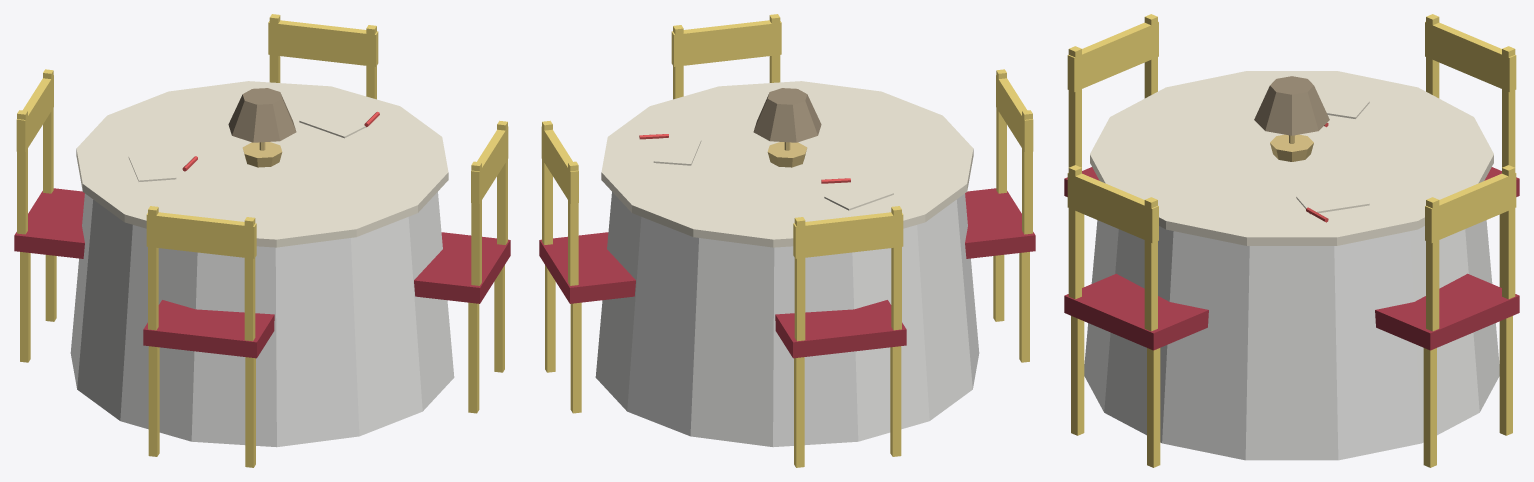
The model's file is HJ_MesaRedonda.fbx.
The picture shows the model from 3 angles, left to right: view 1: azimuth 30°, elevation 25°; view 2: azimuth 150°, elevation 25°; view 3: azimuth 270°, elevation 25°; orthographic projection. The views are drawn at different scales.
Visible parts, largest first — view 1: HJ_MesaRedonda; view 2: HJ_MesaRedonda; view 3: HJ_MesaRedonda.
Part boxes in pixels (<box>): HJ_MesaRedonda: <box>14,14,510,467</box>; HJ_MesaRedonda: <box>539,14,1035,467</box>; HJ_MesaRedonda: <box>1064,14,1519,467</box>.
Size of the model in its own units: 1.44 by 1.01 by 1.44.
